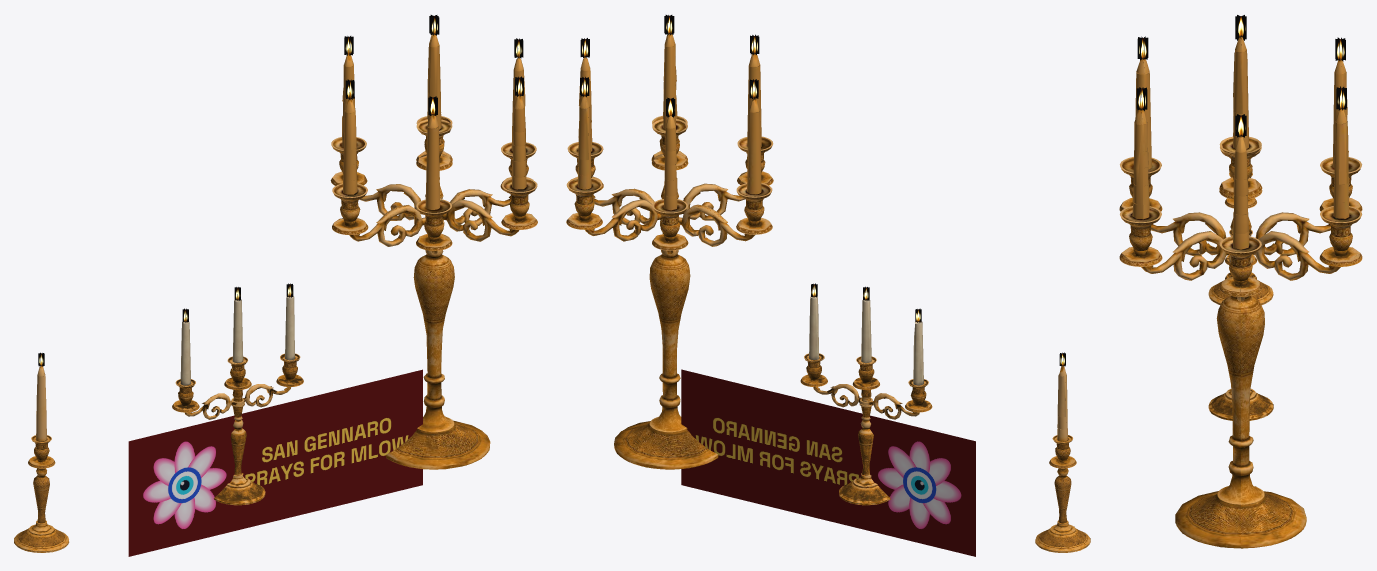
The model's file is nyb_mean_candles.glb.
3 views of the same model, side by side, from view 1: azimuth 30°, elevation 25°; view 2: azimuth 150°, elevation 25°; view 3: azimuth 270°, elevation 25° (orthographic). The views are drawn at different scales.
Visible parts, largest first — view 1: brass_candleholder_03, add_lbl_b29513c2fa.png; view 2: brass_candleholder_03, add_lbl_b29513c2fa.png; view 3: brass_candleholder_03.
Part boxes in pixels (<box>): brass_candleholder_03: <box>14,15,537,552</box>; add_lbl_b29513c2fa.png: <box>128,369,422,556</box>; brass_candleholder_03: <box>566,15,1090,552</box>; add_lbl_b29513c2fa.png: <box>681,369,975,556</box>; brass_candleholder_03: <box>1119,15,1362,548</box>.
Size of the model in its own units: 1.05 by 0.906 by 0.3647.
Materials: 6 (6 with a texture image).
